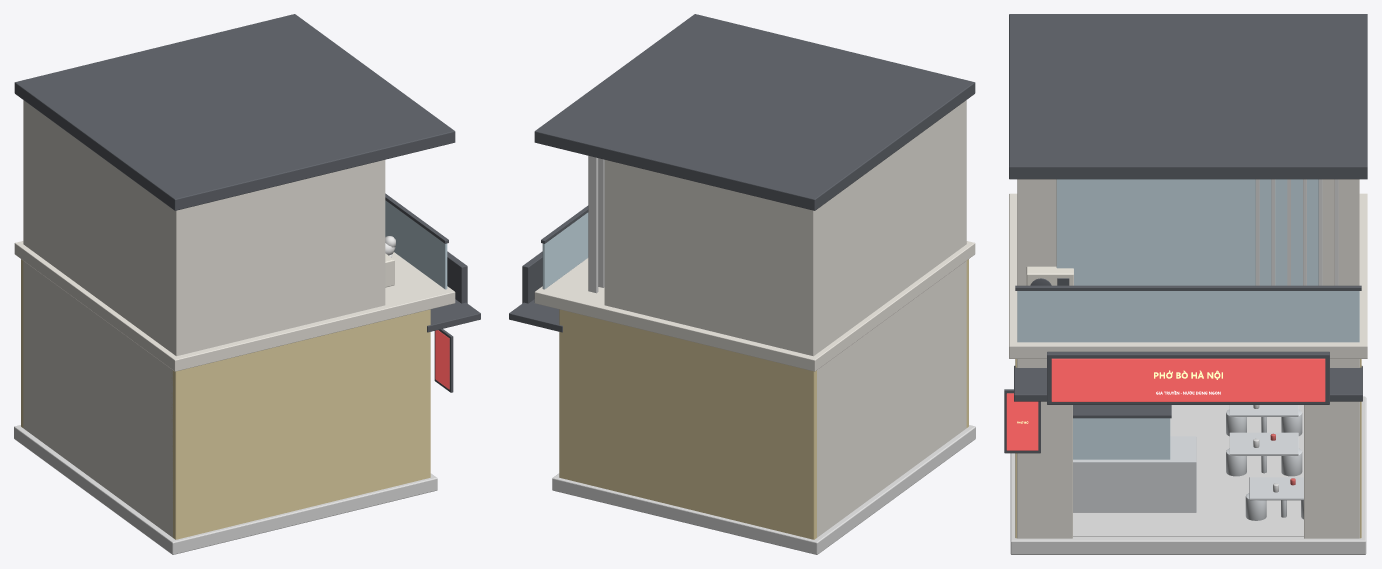
Rendered from SM_Hanoi_PhoShop.fbx.
3 renders of one model, left to right at view 1: azimuth 30°, elevation 25°; view 2: azimuth 150°, elevation 25°; view 3: azimuth 270°, elevation 25°, orthographic. The views are drawn at different scales.
Parts seen in each view (by area): view 1: Pho_F2Box, Pho_Roof, Pho_SideWallL, Pho_BackWall, Pho_F2Slab, Pho_Plinth, Pho_BalGlass, Pho_Canopy, Pho_SignFrame, Pho_BladeBg; view 2: Pho_F2Box, Pho_Roof, Pho_SideWallR, Pho_BackWall, Pho_F2Slab, Pho_Plinth, Pho_BalGlass, Pho_Louver_5, Pho_Canopy, Pho_Louver_4, Pho_SignFrame; view 3: Pho_Roof, Pho_F2Glass, Pho_BalGlass, Pho_TileFloor, Pho_SignBg, Pho_FrontPierR, Pho_Plinth, Pho_F2Box, Pho_CounterBody, Pho_F2Slab, Pho_FrontPierL, Pho_GlassCaseFrame (+17 smaller).
Boxes of the visible parts, left/top/right/bottom form: Pho_F2Box: left=23, top=100, right=385, bottom=356; Pho_Roof: left=14, top=14, right=455, bottom=210; Pho_SideWallL: left=171, top=309, right=430, bottom=539; Pho_BackWall: left=23, top=261, right=172, bottom=537; Pho_F2Slab: left=14, top=241, right=455, bottom=371; Pho_Plinth: left=14, top=425, right=437, bottom=554; Pho_BalGlass: left=385, top=200, right=447, bottom=289; Pho_Canopy: left=427, top=299, right=480, bottom=332; Pho_SignFrame: left=447, top=251, right=467, bottom=303; Pho_BladeBg: left=435, top=330, right=449, bottom=389; Pho_F2Box: left=604, top=100, right=966, bottom=356; Pho_Roof: left=534, top=14, right=975, bottom=210; Pho_SideWallR: left=559, top=309, right=816, bottom=539; Pho_BackWall: left=817, top=261, right=966, bottom=537; Pho_F2Slab: left=534, top=241, right=975, bottom=371; Pho_Plinth: left=552, top=425, right=975, bottom=554; Pho_BalGlass: left=542, top=212, right=588, bottom=289; Pho_Louver_5: left=588, top=155, right=598, bottom=293; Pho_Canopy: left=509, top=299, right=562, bottom=332; Pho_Louver_4: left=598, top=158, right=604, bottom=287; Pho_SignFrame: left=522, top=251, right=542, bottom=303; Pho_Roof: left=1009, top=14, right=1367, bottom=179; Pho_F2Glass: left=1056, top=179, right=1318, bottom=285; Pho_BalGlass: left=1017, top=291, right=1359, bottom=342; Pho_TileFloor: left=1073, top=405, right=1303, bottom=536; Pho_SignBg: left=1051, top=358, right=1325, bottom=401; Pho_FrontPierR: left=1304, top=359, right=1359, bottom=538; Pho_Plinth: left=1010, top=396, right=1366, bottom=554; Pho_F2Box: left=1017, top=179, right=1359, bottom=285; Pho_CounterBody: left=1073, top=436, right=1196, bottom=512; Pho_F2Slab: left=1009, top=193, right=1367, bottom=358; Pho_FrontPierL: left=1017, top=359, right=1072, bottom=538; Pho_GlassCaseFrame: left=1073, top=418, right=1170, bottom=459.
Size of the model in its own units: 6.14 by 6.67 by 5.52.
